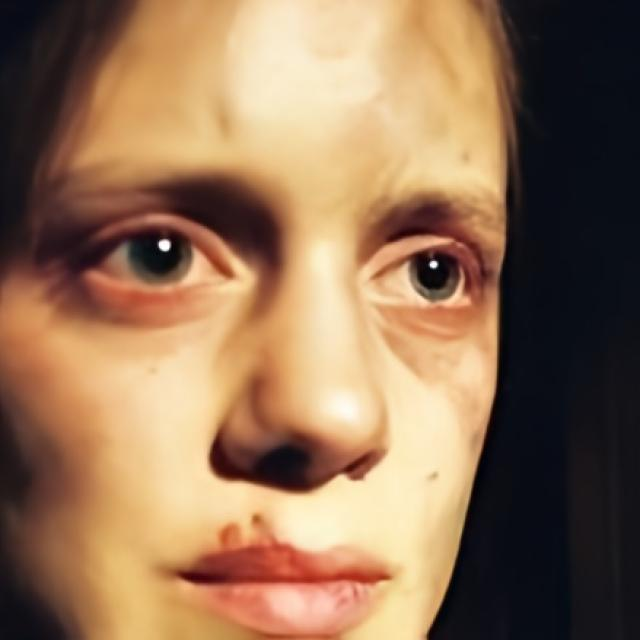sad: (0, 0, 512, 640)
